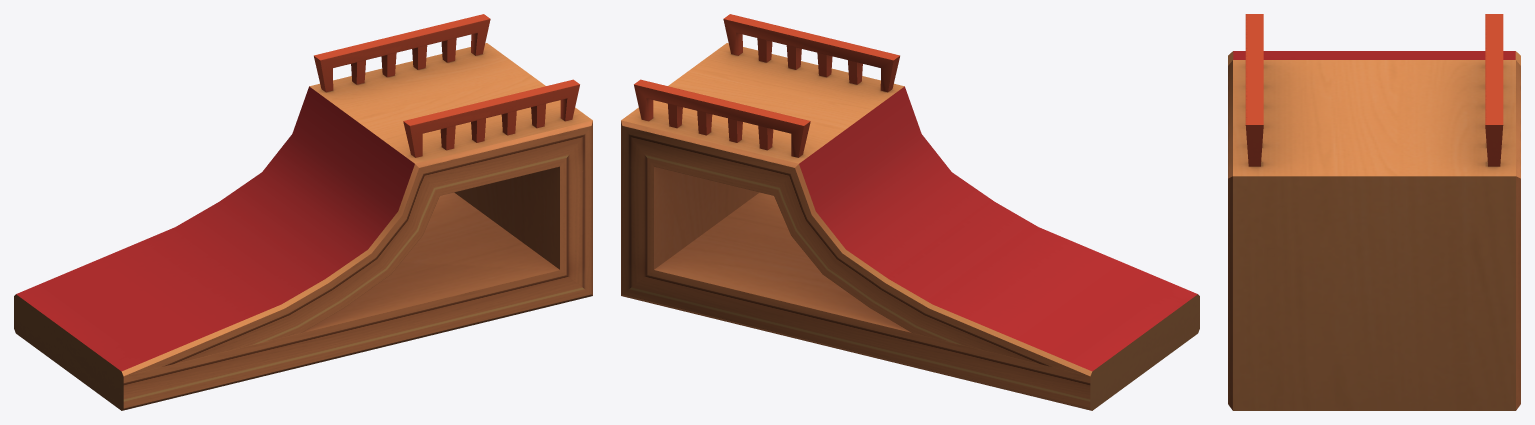
The model's file is huati02.FBX.
3 views of the same model, side by side, from view 1: azimuth 30°, elevation 25°; view 2: azimuth 150°, elevation 25°; view 3: azimuth 270°, elevation 25° (orthographic). The views are drawn at different scales.
Visible parts, largest first — view 1: objqumianxiapo_hong_02; view 2: objqumianxiapo_hong_02; view 3: objqumianxiapo_hong_02.
Part boxes in pixels (x1,y1,x2,y2): objqumianxiapo_hong_02: (14, 14, 592, 410); objqumianxiapo_hong_02: (621, 14, 1199, 410); objqumianxiapo_hong_02: (1228, 14, 1520, 410).
Size of the model in its own units: 17.76 by 7.56 by 7.15.
